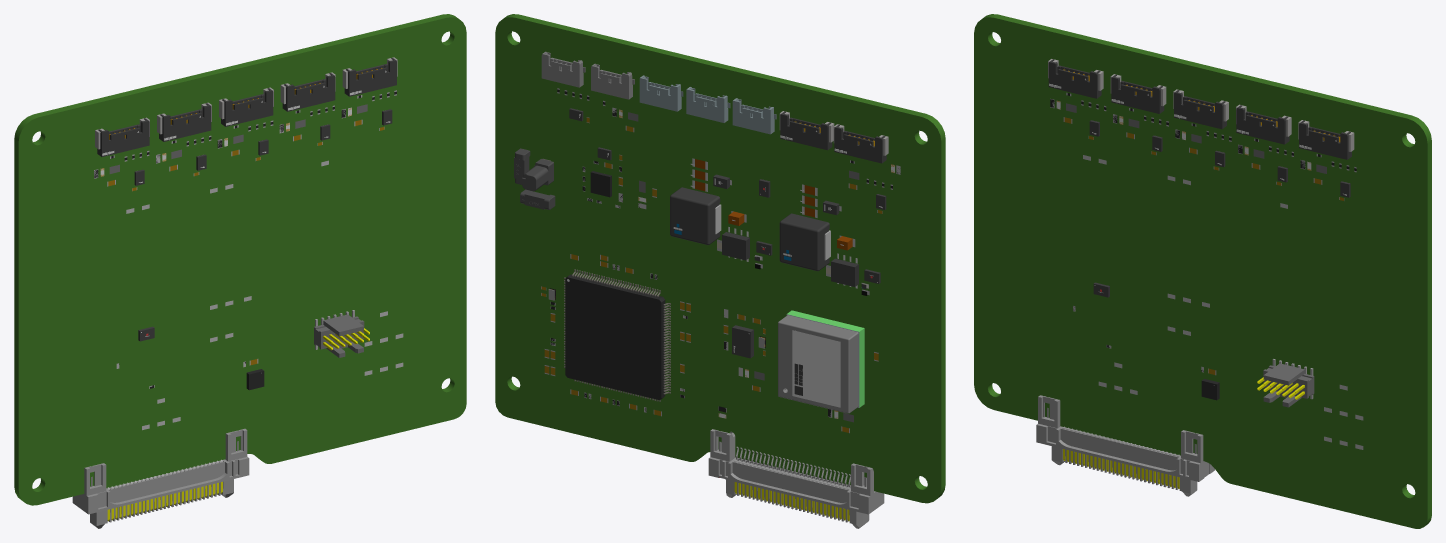
File: adcs.glb
The picture shows the model from 3 angles, left to right: view 1: azimuth 30°, elevation 25°; view 2: azimuth 150°, elevation 25°; view 3: azimuth 330°, elevation 25°; orthographic projection.
Visible parts, largest first — view 1: board, if_0, decals, blocks, if_1, if_10, if_12, if_11, if_13, if_9; view 2: board, inst_1_0, parts, if_0, blocks, decals, inst_0_0, inst_0_1, if_8, if_7, if_4, if_5 (+4 smaller); view 3: board, if_0, decals, blocks, if_1, if_10, if_13, if_12, if_9, if_11.
Boxes of the visible parts, left/top/right/bottom form: board: left=14, top=14, right=466, bottom=505; if_0: left=72, top=428, right=249, bottom=528; decals: left=94, top=90, right=403, bottom=430; blocks: left=95, top=57, right=397, bottom=390; if_1: left=314, top=310, right=369, bottom=357; if_10: left=282, top=73, right=335, bottom=111; if_12: left=159, top=103, right=211, bottom=141; if_11: left=221, top=88, right=273, bottom=126; if_13: left=97, top=118, right=149, bottom=156; if_9: left=344, top=58, right=396, bottom=96; board: left=495, top=14, right=945, bottom=503; inst_1_0: left=564, top=269, right=670, bottom=401; parts: left=514, top=148, right=864, bottom=413; if_0: left=708, top=429, right=884, bottom=528; blocks: left=569, top=108, right=888, bottom=358; decals: left=541, top=88, right=900, bottom=433; inst_0_0: left=779, top=213, right=829, bottom=271; inst_0_1: left=670, top=187, right=720, bottom=245; if_8: left=834, top=125, right=886, bottom=163; if_7: left=780, top=111, right=832, bottom=150; if_4: left=639, top=75, right=683, bottom=111; if_5: left=686, top=87, right=730, bottom=122; board: left=974, top=14, right=1431, bottom=528; if_0: left=1036, top=395, right=1214, bottom=496; decals: left=1050, top=92, right=1363, bottom=449; blocks: left=1048, top=59, right=1354, bottom=400; if_1: left=1257, top=359, right=1314, bottom=407; if_10: left=1236, top=105, right=1289, bottom=144; if_13: left=1048, top=59, right=1101, bottom=98; if_12: left=1111, top=74, right=1164, bottom=113; if_9: left=1299, top=120, right=1351, bottom=159; if_11: left=1174, top=90, right=1226, bottom=129.
Size of the model in its own units: 92 by 83.87 by 14.03.
